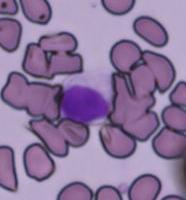L: (58, 76, 114, 126)
